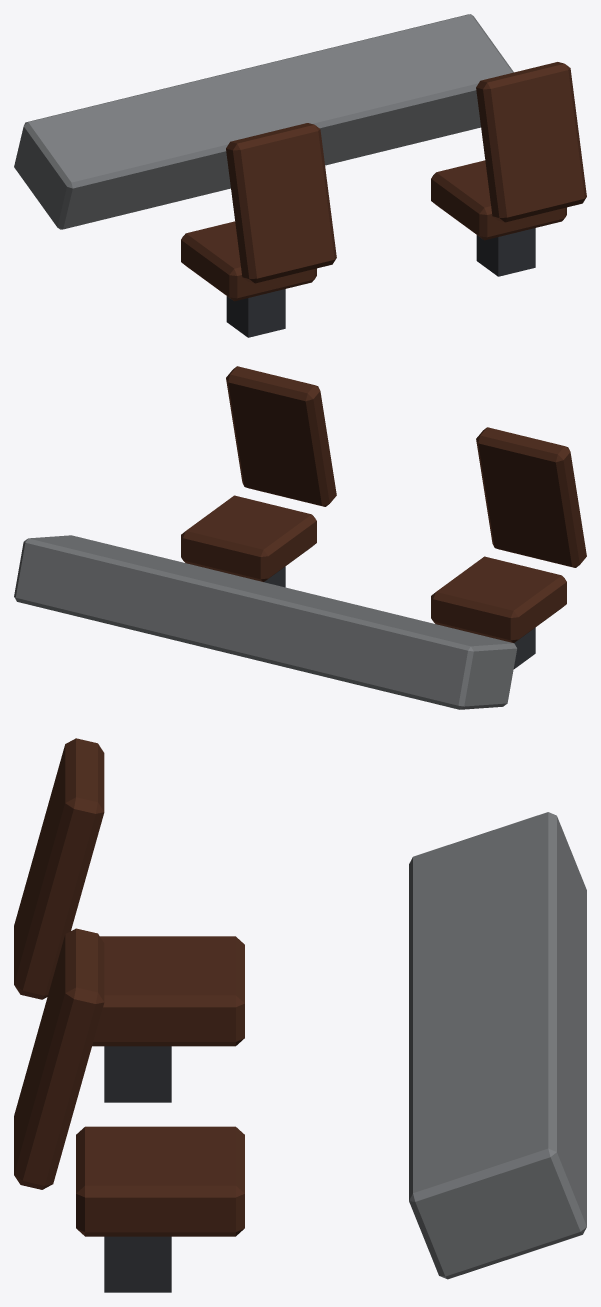
File: ec2_seats.obj
The picture shows the model from 3 angles, top to bottom: view 1: azimuth 30°, elevation 25°; view 2: azimuth 150°, elevation 25°; view 3: azimuth 270°, elevation 25°; orthographic projection. The views are drawn at different scales.
Parts seen in each view (by area): view 1: ec2_seats; view 2: ec2_seats; view 3: ec2_seats.
Part boxes in pixels (x1,y1,x2,y2): ec2_seats: (14,14,586,337); ec2_seats: (14,366,586,709); ec2_seats: (14,738,586,1292).
Bounding box in the file's own units: 3.6 × 1.57 × 2.55.
